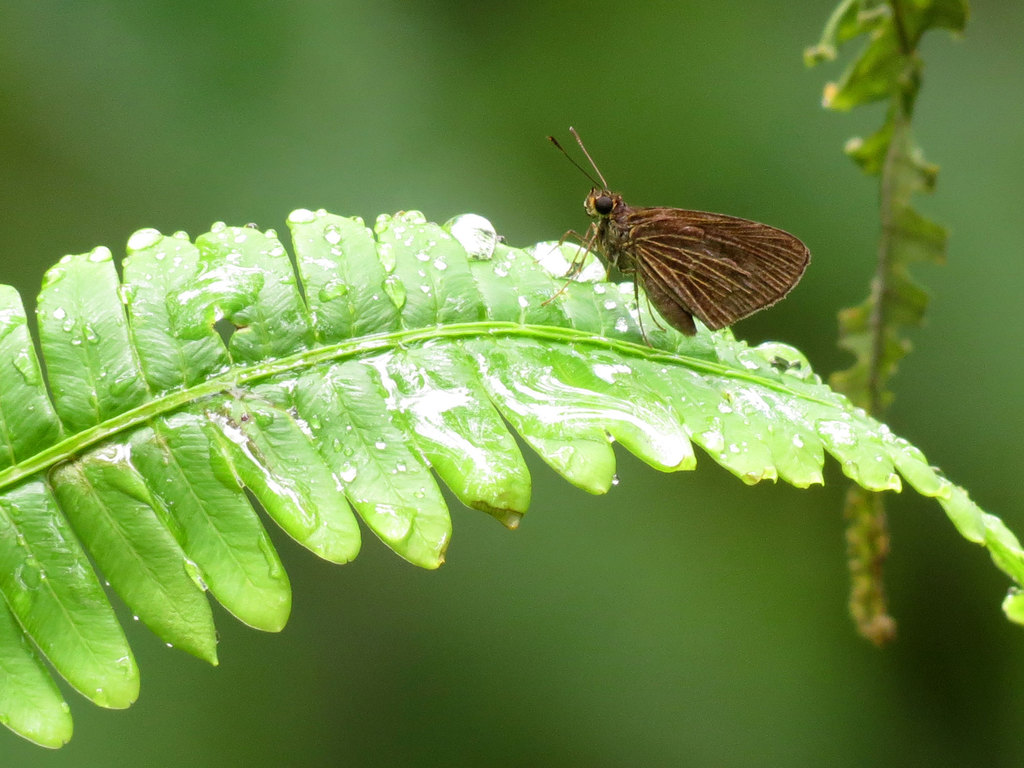Butterfly: (529, 129, 823, 367)
